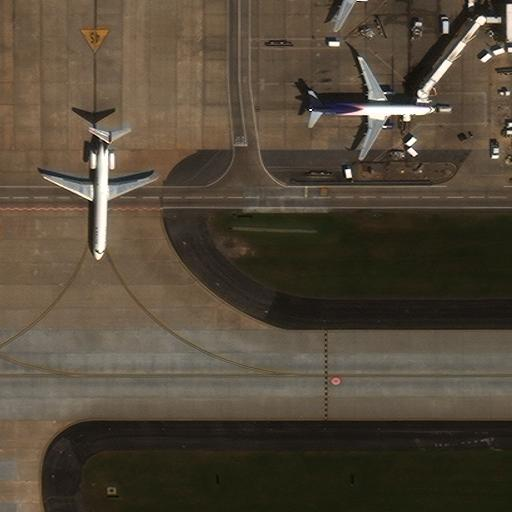Medium Civil Transport: (42, 131, 157, 259), (308, 57, 435, 159), (306, 0, 378, 31)
